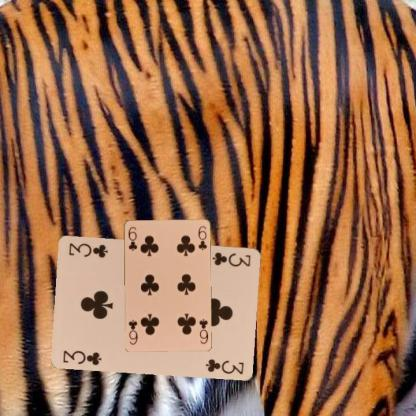3c: (210, 249, 252, 268), (61, 348, 103, 366)
6c: (125, 224, 138, 252), (197, 316, 209, 345)
